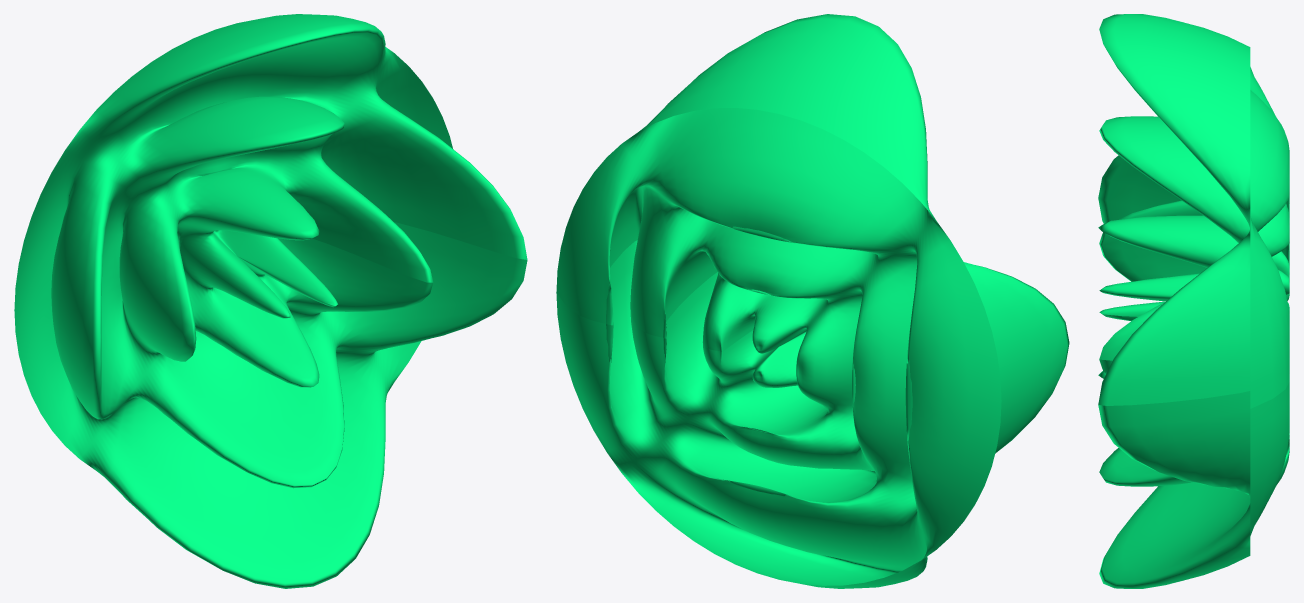
File: scalar_field_inflation_physics_animated_1764851997705.glb
3 renders of one model, left to right at view 1: azimuth 30°, elevation 25°; view 2: azimuth 150°, elevation 25°; view 3: azimuth 270°, elevation 25°, orthographic.
Visible parts, largest first — view 1: MathShape; view 2: MathShape; view 3: MathShape.
Part boxes in pixels (box(x1,y1,x2,y2)): MathShape: box(14, 14, 527, 588); MathShape: box(556, 14, 1069, 588); MathShape: box(1098, 14, 1289, 588).
Bounding box in the file's own units: 20.11 × 23.75 × 7.56.
